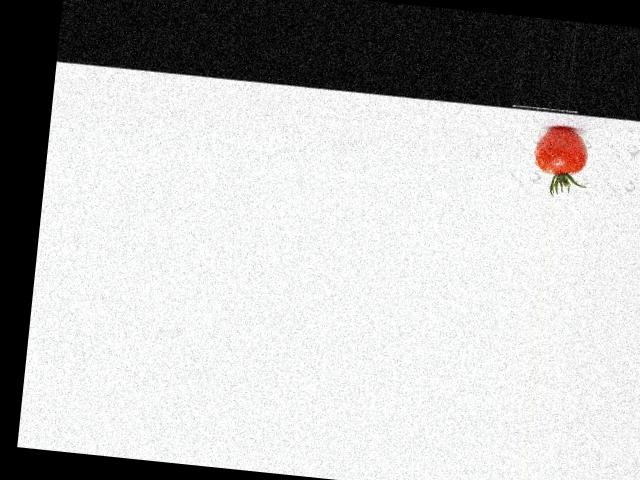tomato: (534, 125, 590, 176)
